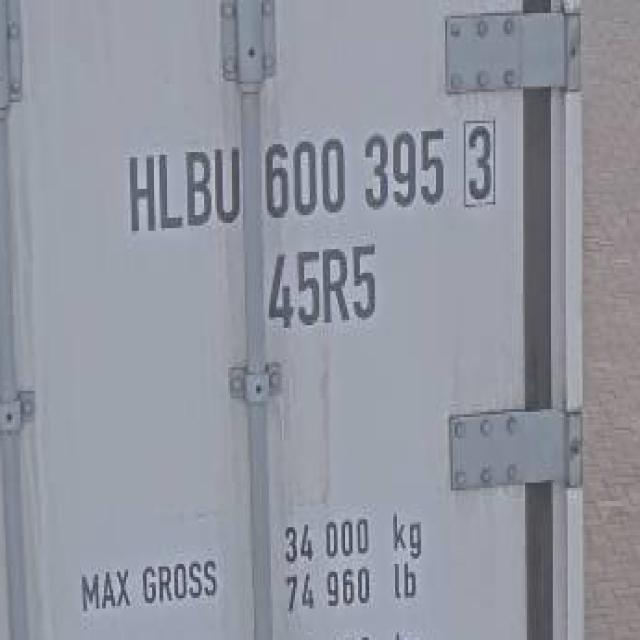dv: (458, 113, 499, 220)
owner: (125, 132, 247, 245)
serial: (260, 123, 452, 222)
size: (266, 238, 390, 336)
